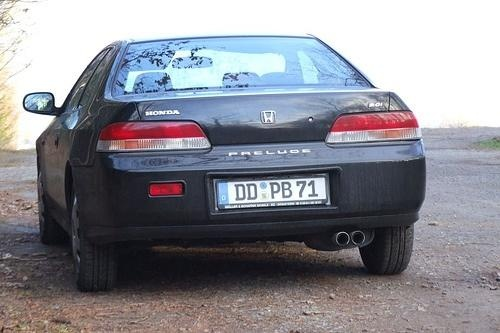car: (22, 36, 427, 293)
